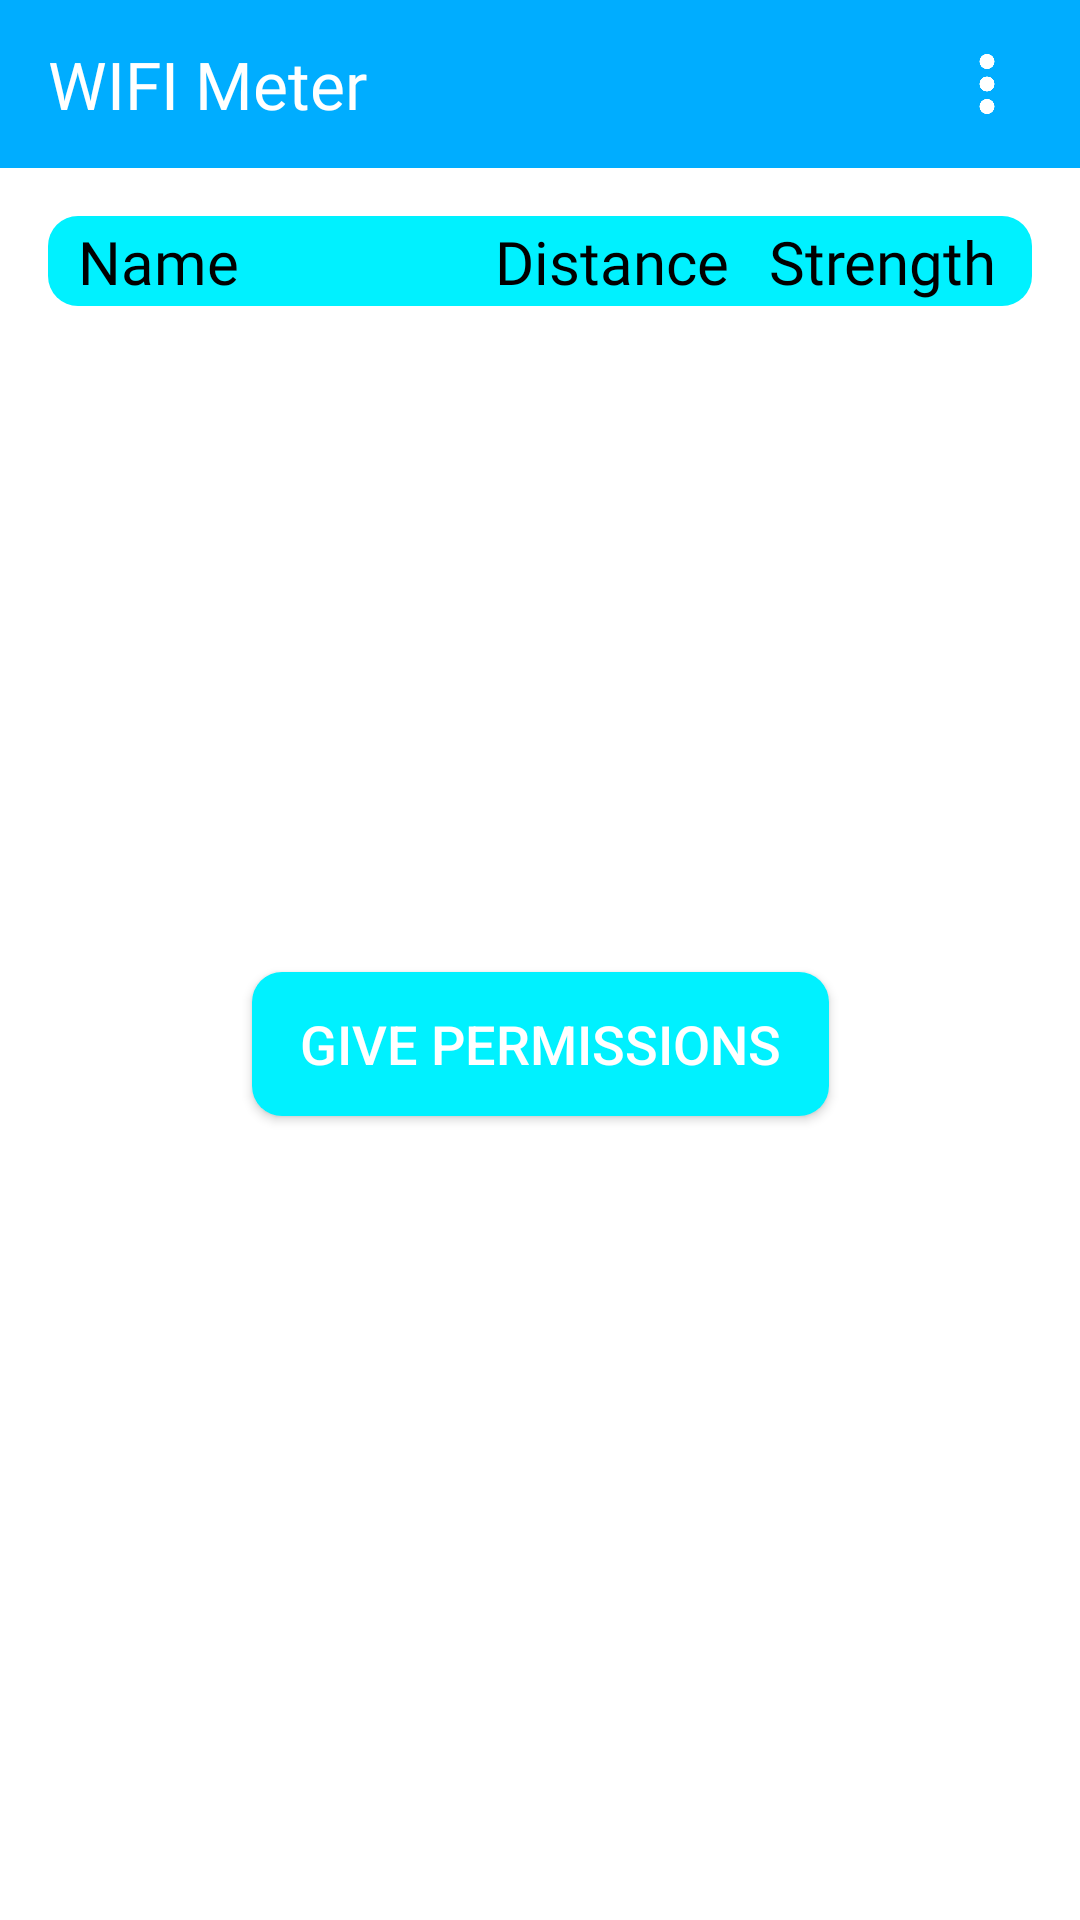

Icons on this 1080 × 1920 Android screen, each with the point to tap as [x,y]:
more: [987,84]
